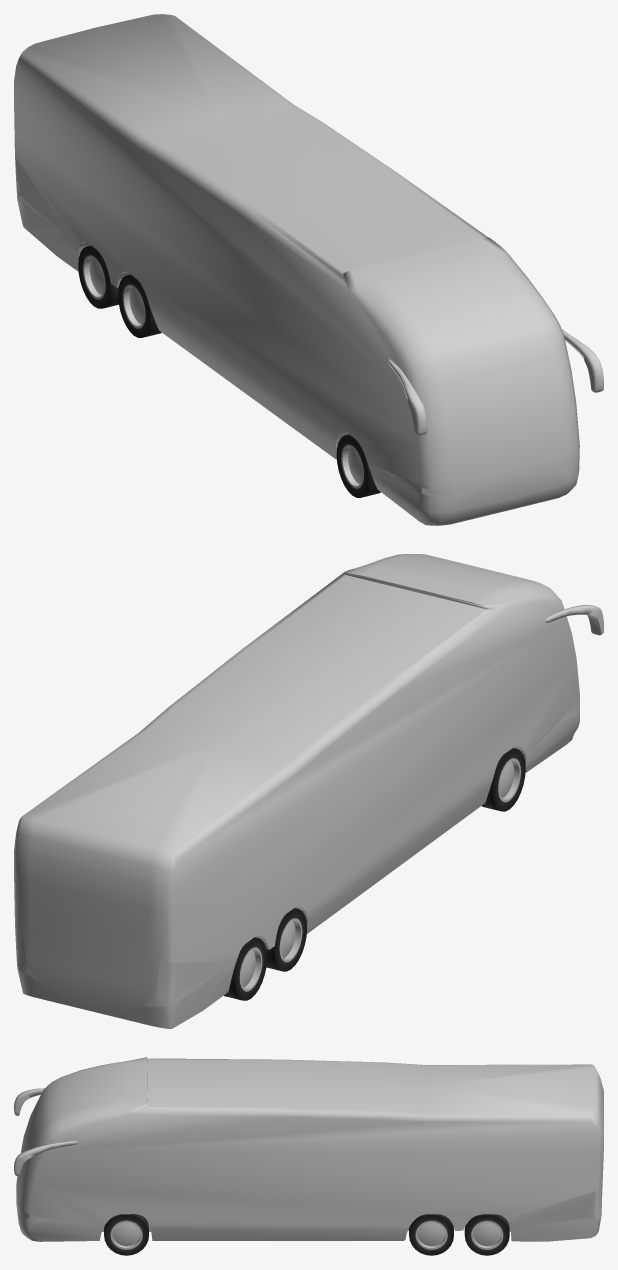
The model's file is Gontijo.fbx.
3 views of the same model, one above another, from view 1: azimuth 30°, elevation 25°; view 2: azimuth 150°, elevation 25°; view 3: azimuth 270°, elevation 25° (orthographic). The views are drawn at different scales.
Visible parts, largest first — view 1: Bus, BR2, FR, BR, Bus ON; view 2: Bus, FR, BR2, BR, Bus ON; view 3: Bus, BL2, FL, BL, Bus ON.
Part boxes in pixels (x1,y1,x2,y2): Bus: (14,14,603,525); BR2: (78,245,118,308); FR: (336,434,380,497); BR: (118,274,161,337); Bus ON: (15,156,579,499); Bus: (14,554,603,1028); FR: (482,748,525,811); BR2: (224,937,267,1000); BR: (266,908,306,971); Bus ON: (15,712,574,1006); Bus: (14,1057,603,1241); BL2: (464,1214,509,1255); FL: (104,1214,148,1255); BL: (409,1214,453,1255); Bus ON: (18,1186,601,1222).
Size of the model in its own units: 2.95 by 3.2 by 11.57.
